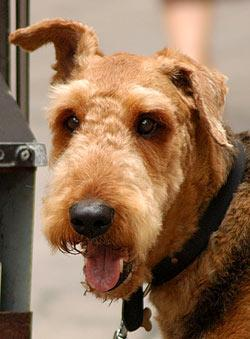wire-haired_fox_terrier: (9, 18, 249, 338)
